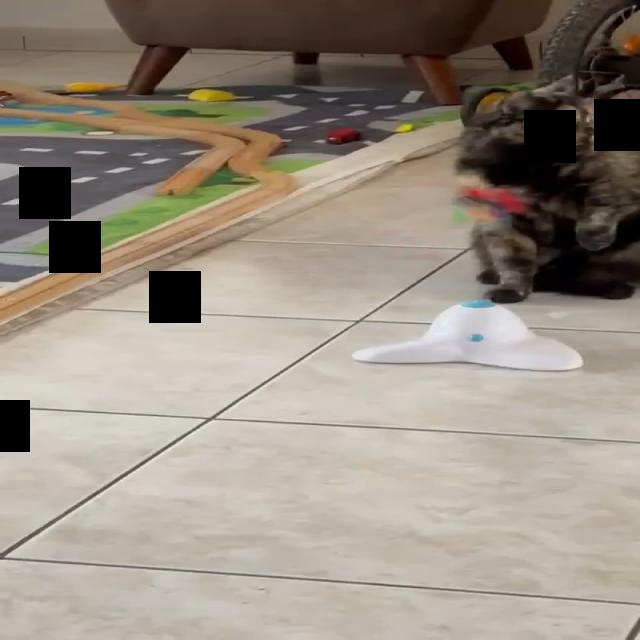authorized: (452, 68, 639, 303)
